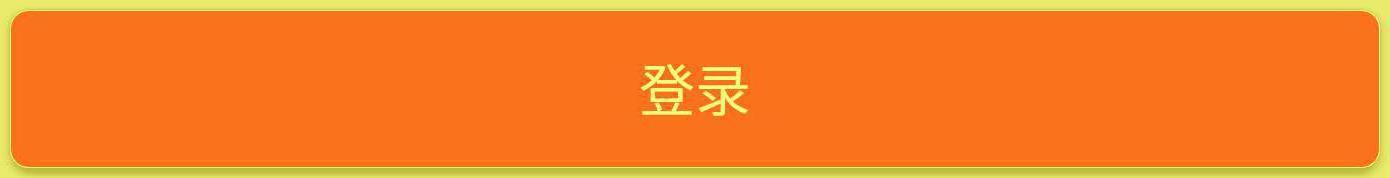Button: (1, 1, 1389, 177)
